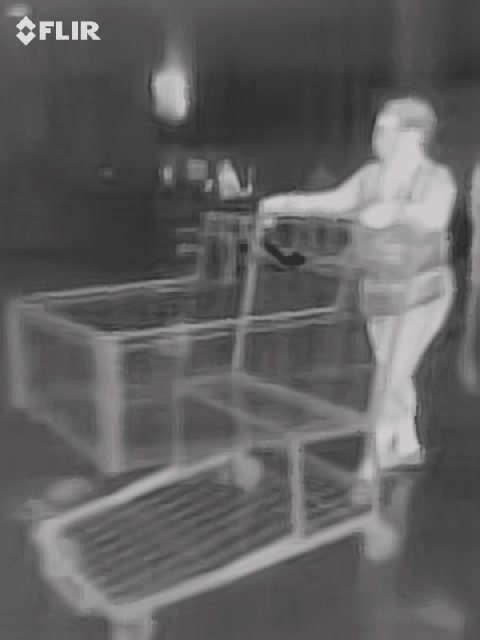head: (371, 95, 441, 161)
